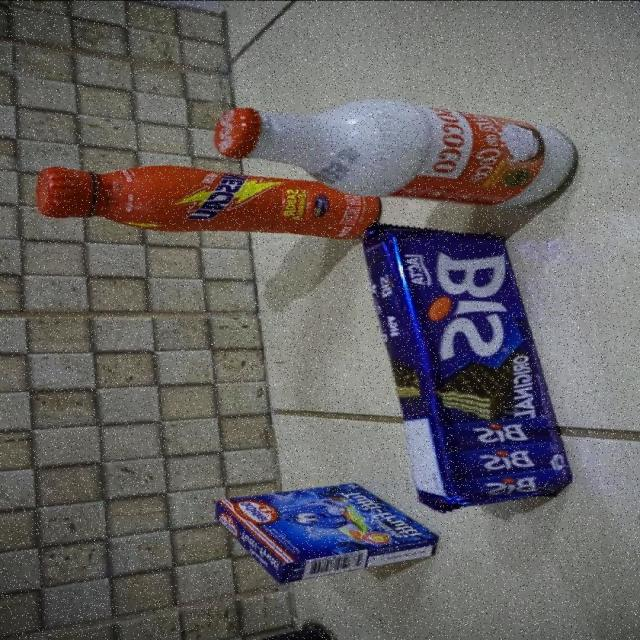ChocolateMilk: (33, 181, 367, 241)
CoconutMilk: (218, 104, 572, 182)
Gelatine: (202, 483, 443, 586)
